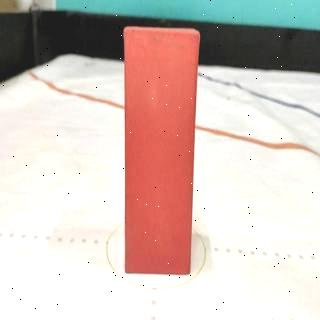redbox: (124, 24, 200, 275)
